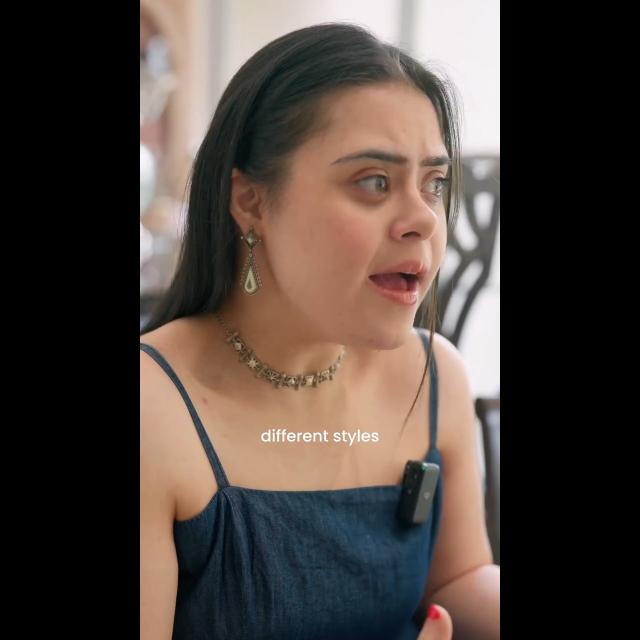ear ring: (236, 222, 268, 296)
